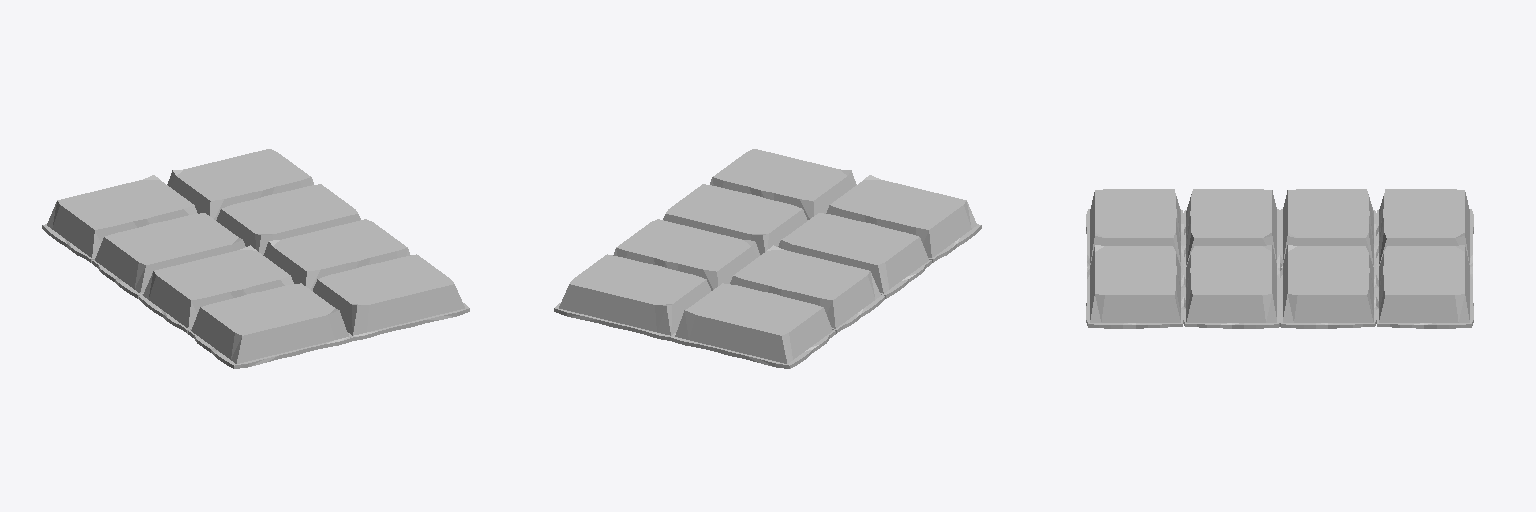
Rendered from chocolate.obj.
3 views of the same model, side by side, from view 1: azimuth 30°, elevation 25°; view 2: azimuth 150°, elevation 25°; view 3: azimuth 270°, elevation 25° (orthographic).
Parts seen in each view (by area): view 1: chocolate.002; view 2: chocolate.002; view 3: chocolate.002.
Part boxes in pixels (x1,y1,x2,y2): chocolate.002: (42,149,469,368); chocolate.002: (554,149,981,368); chocolate.002: (1086,189,1473,328).
Bounding box in the file's own units: 5.63 × 0.7102 × 7.93.